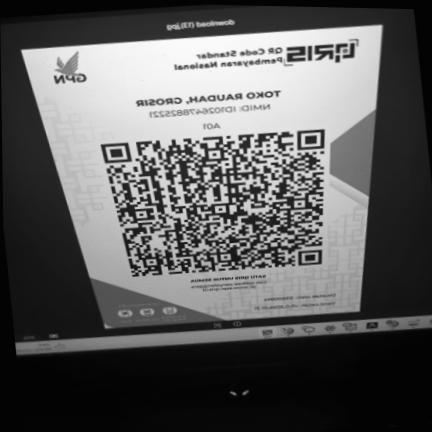Cara Pakai QRIS: (101, 298, 189, 327)
Cek Aplikasi Penyelenggara: (187, 279, 270, 294)
Dicetak Oleh: (258, 291, 340, 303)
Logo GPN: (38, 49, 97, 90)
Logo dan deskripsi QRIS: (162, 34, 366, 78)
Nama Merchant: (128, 87, 284, 108)
National Merchant ID: (131, 101, 285, 123)
QR Code: (94, 126, 332, 281)
Slogan: (186, 273, 269, 284)
Terminal ID: (198, 119, 225, 131)
Versi Cetak: (250, 299, 340, 312)
